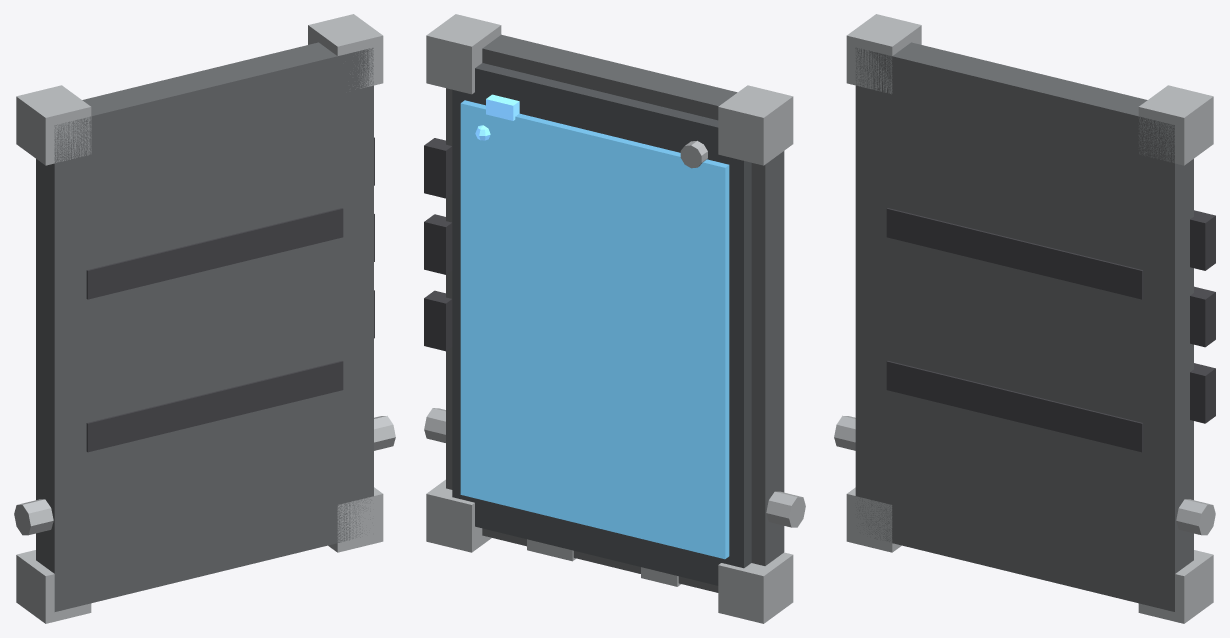
Rendered from inventory_tablet.glb.
3 renders of one model, left to right at view 1: azimuth 30°, elevation 25°; view 2: azimuth 150°, elevation 25°; view 3: azimuth 330°, elevation 25°, orthographic.
Visible parts, largest first — view 1: TAB_Bezel, TAB_Grip_1, TAB_Grip_0, TAB_Corner_-1_1, TAB_Corner_1_1, TAB_Corner_-1_-1, TAB_Corner_1_-1, TAB_Strap_Loop_-1, TAB_Strap_Loop_1; view 2: TAB_Screen_Surface, TAB_Body, TAB_Bezel, TAB_Corner_-1_1, TAB_Corner_-1_-1, TAB_Corner_1_1, TAB_Corner_1_-1, TAB_Button_0, TAB_Button_2, TAB_Button_1, TAB_Strap_Loop_-1, TAB_Sensor (+3 smaller); view 3: TAB_Bezel, TAB_Grip_0, TAB_Grip_1, TAB_Corner_1_1, TAB_Corner_-1_1, TAB_Corner_1_-1, TAB_Corner_-1_-1, TAB_Button_0, TAB_Button_1, TAB_Button_2, TAB_Strap_Loop_1, TAB_Strap_Loop_-1.
Part boxes in pixels (x1,y1,x2,y2): TAB_Bezel: (36, 42, 373, 611); TAB_Grip_1: (86, 361, 343, 452); TAB_Grip_0: (86, 208, 343, 299); TAB_Corner_-1_1: (16, 85, 91, 165); TAB_Corner_1_1: (308, 14, 383, 89); TAB_Corner_-1_-1: (16, 550, 91, 623); TAB_Corner_1_-1: (328, 487, 383, 552); TAB_Strap_Loop_-1: (14, 499, 53, 535); TAB_Strap_Loop_1: (374, 416, 395, 450); TAB_Screen_Surface: (460, 100, 729, 559); TAB_Body: (452, 63, 751, 585); TAB_Bezel: (446, 34, 784, 592); TAB_Corner_-1_1: (718, 85, 793, 165); TAB_Corner_-1_-1: (718, 552, 793, 623); TAB_Corner_1_1: (426, 14, 501, 94); TAB_Corner_1_-1: (426, 479, 491, 552); TAB_Button_0: (424, 138, 452, 198); TAB_Button_2: (424, 290, 452, 351); TAB_Button_1: (424, 214, 452, 274); TAB_Strap_Loop_-1: (766, 491, 805, 527); TAB_Sensor: (486, 94, 519, 120); TAB_Bezel: (855, 42, 1193, 611); TAB_Grip_0: (886, 208, 1143, 299); TAB_Grip_1: (886, 361, 1143, 452); TAB_Corner_1_1: (1138, 85, 1213, 165); TAB_Corner_-1_1: (846, 14, 921, 94); TAB_Corner_1_-1: (1138, 550, 1213, 623); TAB_Corner_-1_-1: (846, 487, 901, 552); TAB_Button_0: (1190, 210, 1215, 270); TAB_Button_1: (1190, 286, 1215, 347); TAB_Button_2: (1190, 363, 1215, 423); TAB_Strap_Loop_1: (1176, 499, 1215, 535); TAB_Strap_Loop_-1: (834, 415, 855, 450).
Size of what is drawn, in the model's own units: 0.2 by 0.265 by 0.035.
